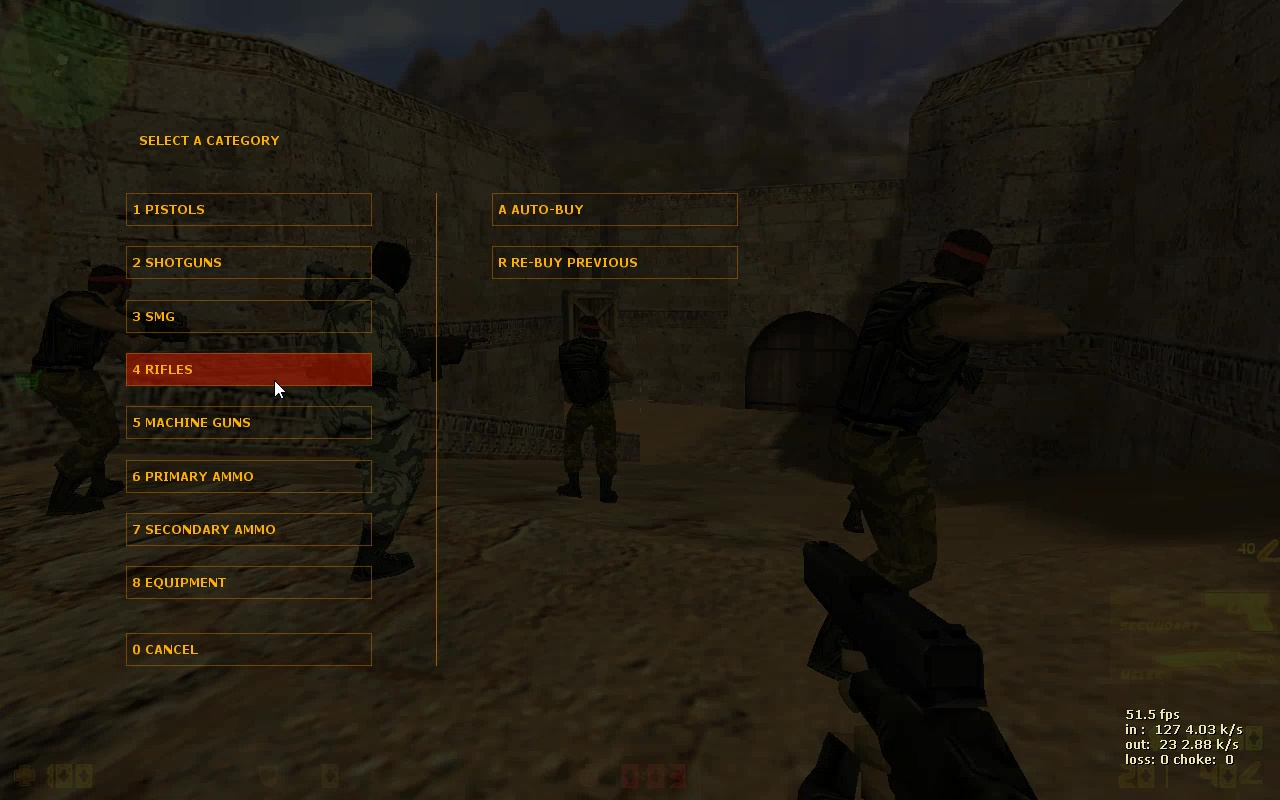terr2: (303, 238, 479, 578)
